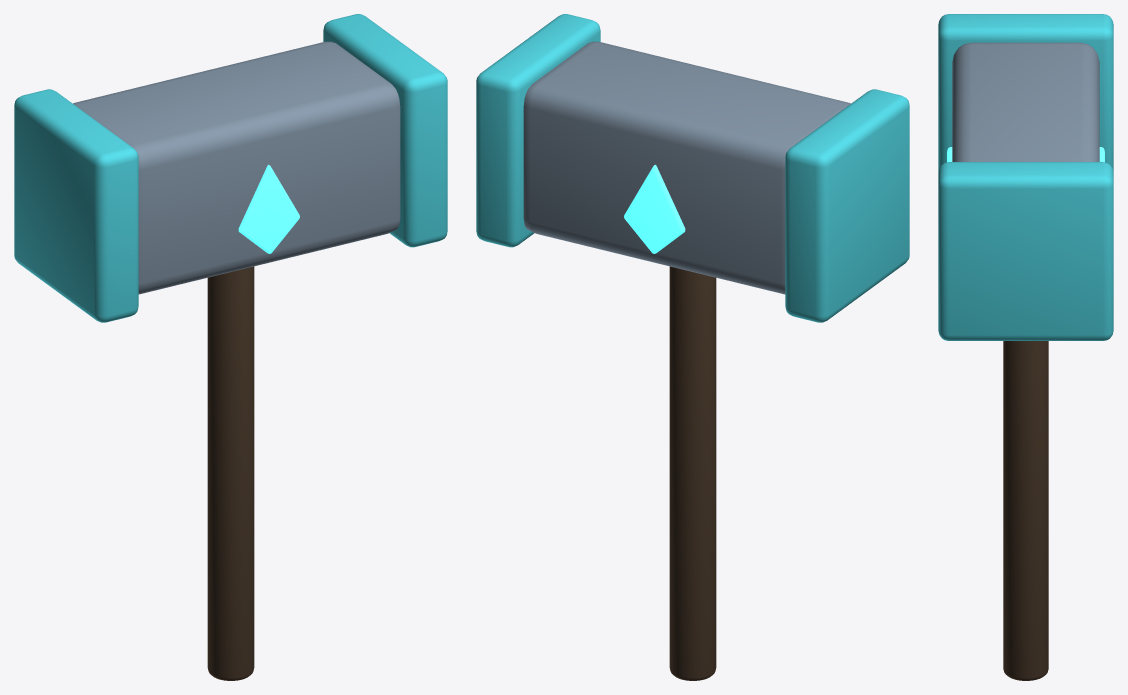
File: hammer_v7.glb
3 renders of one model, left to right at view 1: azimuth 30°, elevation 25°; view 2: azimuth 150°, elevation 25°; view 3: azimuth 270°, elevation 25°, orthographic.
Parts seen in each view (by area): view 1: SLEDGE_HEAD_PRIMARY, SLEDGE_FACE_ACCENT, HAMMER_HAFT_SECONDARY, SLEDGE_FACE_ACCENT.001, SLEDGE_STAMP_EMISSIVE; view 2: SLEDGE_HEAD_PRIMARY, SLEDGE_FACE_ACCENT, HAMMER_HAFT_SECONDARY, SLEDGE_FACE_ACCENT.001, SLEDGE_STAMP_EMISSIVE; view 3: SLEDGE_FACE_ACCENT.001, SLEDGE_HEAD_PRIMARY, HAMMER_HAFT_SECONDARY, SLEDGE_FACE_ACCENT.
Part boxes in pixels (<box>): SLEDGE_HEAD_PRIMARY: <box>73,41,400,294</box>; SLEDGE_FACE_ACCENT: <box>14,89,138,322</box>; HAMMER_HAFT_SECONDARY: <box>207,266,254,680</box>; SLEDGE_FACE_ACCENT.001: <box>323,14,447,247</box>; SLEDGE_STAMP_EMISSIVE: <box>238,164,299,253</box>; SLEDGE_HEAD_PRIMARY: <box>523,41,850,294</box>; SLEDGE_FACE_ACCENT: <box>785,89,909,322</box>; HAMMER_HAFT_SECONDARY: <box>669,266,716,680</box>; SLEDGE_FACE_ACCENT.001: <box>476,14,600,247</box>; SLEDGE_STAMP_EMISSIVE: <box>624,164,685,253</box>; SLEDGE_FACE_ACCENT.001: <box>938,162,1113,340</box>; SLEDGE_HEAD_PRIMARY: <box>952,42,1099,161</box>; HAMMER_HAFT_SECONDARY: <box>1003,341,1048,680</box>; SLEDGE_FACE_ACCENT: <box>938,14,1113,171</box>.
Bounding box in the file's own units: 2.28 × 3.64 × 1.
